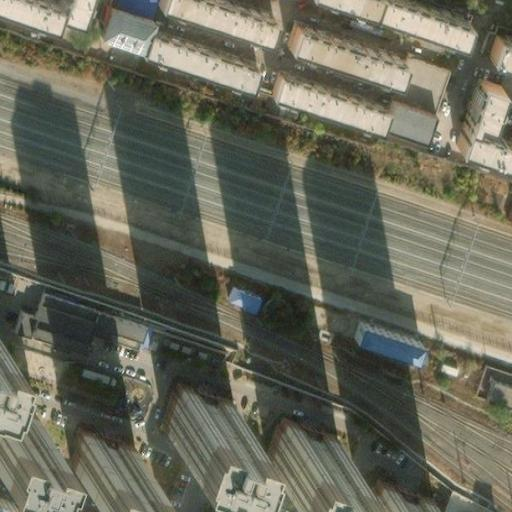building: (137, 21, 257, 85), (27, 287, 142, 346), (264, 71, 380, 127), (282, 16, 386, 73), (263, 421, 333, 481), (160, 386, 229, 446), (71, 427, 135, 486), (379, 47, 442, 106), (165, 0, 270, 32), (5, 305, 79, 348), (347, 317, 414, 355), (361, 480, 429, 512), (373, 103, 424, 141), (470, 360, 512, 391), (478, 371, 512, 400), (218, 277, 251, 306)
